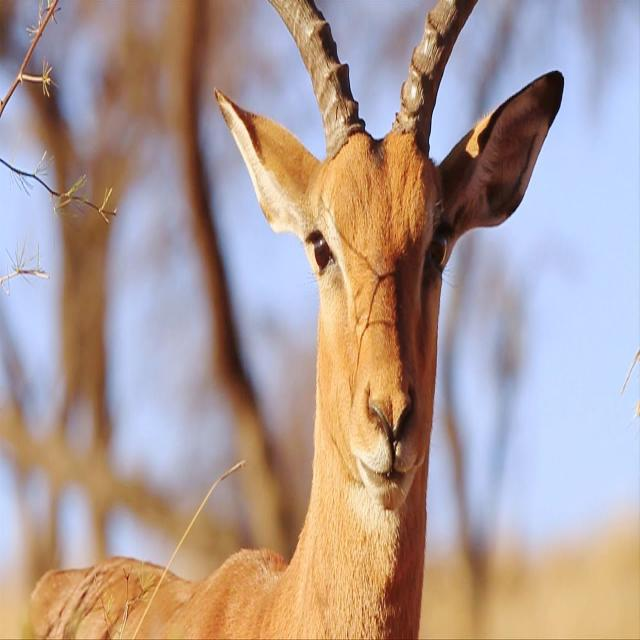Antelope: (22, 0, 574, 640)
